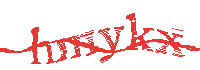h: (29, 26, 55, 65)
k: (126, 13, 154, 52)
m: (56, 29, 98, 64)
x: (156, 27, 186, 57)
y: (98, 23, 125, 65)
